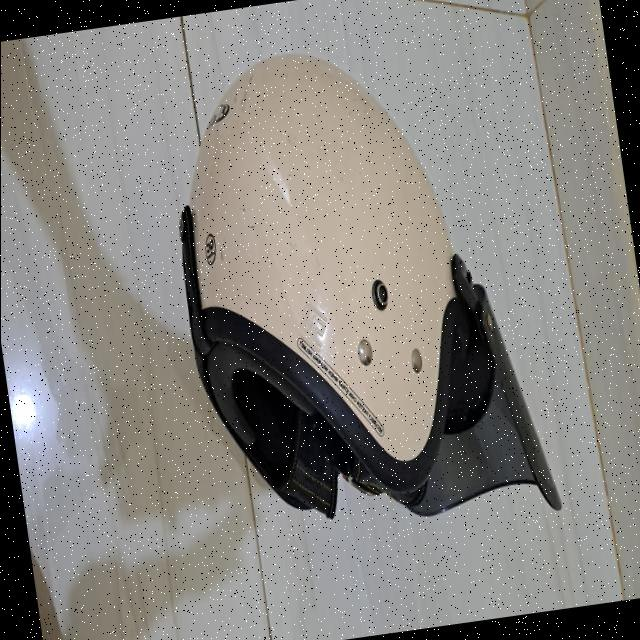Helm: (150, 11, 578, 586)
